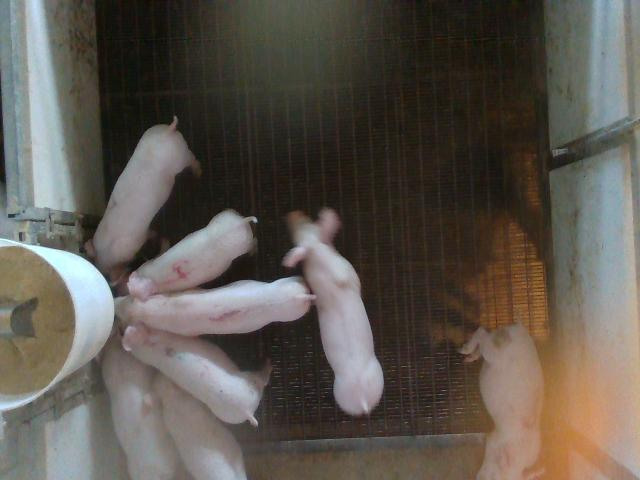pig-1: (115, 274, 315, 351)
pig-3: (460, 321, 544, 478)
pig-4: (131, 209, 256, 292)
